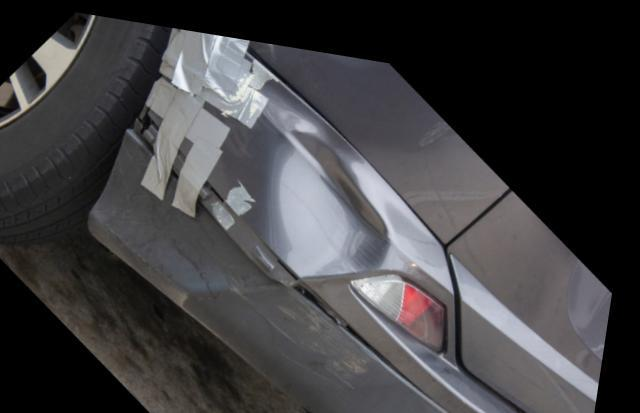dent: (275, 118, 396, 266)
scratch: (214, 239, 379, 389)
